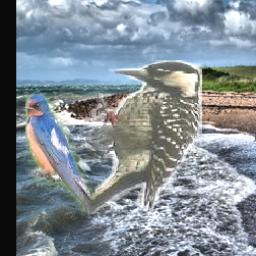Swallow: (25, 95, 99, 212)
Woodpecker: (80, 61, 202, 215)
